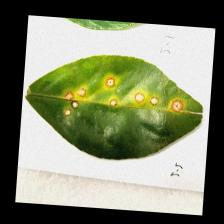canker: (52, 68, 190, 138)
